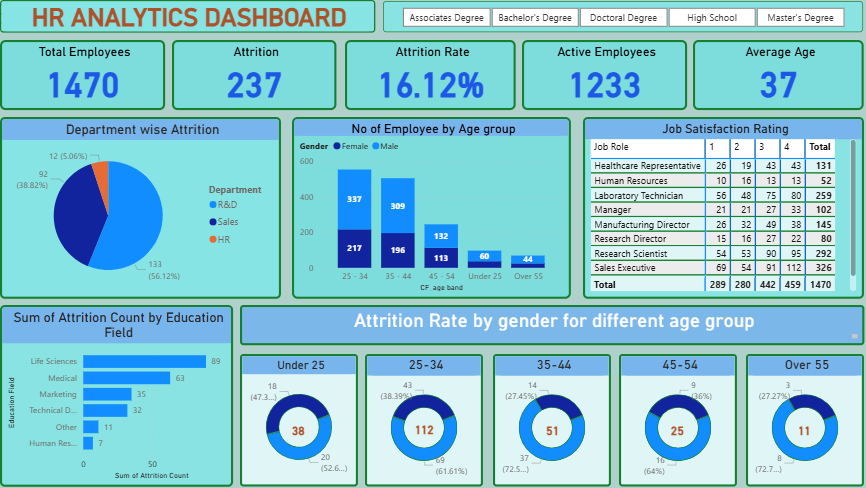

Layout of this report page (visuals, bound fields, positions):
{"tool":"powerbi","page":{"name":"Page 1","canvas":[1280,720],"ordinal":0},"visuals":[{"type":"card","title":"Total Employees","fields":{"Values":["Sum(HR data.Employee Count)"]},"box":[19.5,57.3,237.9,101.3],"z":0},{"type":"card","title":"Attrition","fields":{"Values":["Sum(HR data.Attrition (Left out))"]},"box":[268.4,57.3,236.7,101.3],"z":1000},{"type":"card","title":"Active Employees","fields":{"Values":["HR data.Active Employees"]},"box":[772.4,57.3,237.9,101.3],"z":2000},{"type":"card","title":"Attrition Rate","fields":{"Values":["HR data.Attrition rate"]},"box":[517.4,57.3,246.5,101.3],"z":3000},{"type":"card","title":"Average Age","fields":{"Values":["Avg(HR data.Age)"]},"box":[1018.9,57.3,246.5,101.3],"z":4000},{"type":"pieChart","title":" Department wise Attrition","fields":{"Category":["HR data.Department"],"Y":["Sum(HR data.Attrition Count)"]},"box":[19.7,168.3,404.9,262.4],"z":5000},{"type":"columnChart","title":"No of Employee by Age group","fields":{"Category":["HR data.CF_age band"],"Y":["Sum(HR data.Employee Count)"],"Series":["HR data.Gender"]},"box":[441.3,168.3,401.9,262.4],"z":6000},{"type":"actionButton","box":[0,0,100,40],"z":7000},{"type":"pivotTable","title":"Job Satisfaction Rating","fields":{"Rows":["HR data.Job Role"],"Columns":["HR data.Job Satisfaction"],"Values":["Sum(HR data.Employee Count)"]},"box":[859.9,168.3,404.9,262.4],"z":8000},{"type":"barChart","fields":{"Category":["HR data.Education Field"],"Y":["Sum(HR data.Attrition Count)"]},"box":[19.8,439.4,335.9,262.2],"z":9000},{"type":"donutChart","title":"Under 25","fields":{"Category":["HR data.Gender"],"Y":["Sum(HR data.Attrition Count)"],"Series":["HR data.CF_age band"]},"box":[365.7,510.3,170,191.4],"z":10000},{"type":"textbox","title":"Attrition Rate by gender for different age group","box":[365.7,439.4,900.1,58.1],"z":11000},{"type":"donutChart","title":" 25-34","fields":{"Category":["HR data.Gender"],"Y":["Sum(HR data.Attrition Count)"],"Series":["HR data.CF_age band"]},"box":[545.7,510.3,170.1,191.4],"z":12000},{"type":"donutChart","title":"35-44","fields":{"Category":["HR data.Gender"],"Y":["Sum(HR data.Attrition Count)"],"Series":["HR data.CF_age band"]},"box":[731.4,510.3,170.1,191.4],"z":13000},{"type":"donutChart","title":"45-54","fields":{"Category":["HR data.Gender"],"Y":["Sum(HR data.Attrition Count)"],"Series":["HR data.CF_age band"]},"box":[912.9,510.3,170.1,191.4],"z":14000},{"type":"donutChart","title":"Over 55","fields":{"Category":["HR data.Gender"],"Y":["Sum(HR data.Attrition Count)"],"Series":["HR data.CF_age band"]},"box":[1095.7,510.3,170.1,191.4],"z":15000},{"type":"textbox","title":"HR ANALYTICS DASHBOARD","box":[19.8,0,541.5,46.8],"z":16000},{"type":"slicer","fields":{"Values":["HR data.Education"]},"box":[572.7,1.4,691.7,45.4],"z":17000},{"type":"card","fields":{"Values":["Sum(HR data.Attrition Count)"]},"box":[435.2,606.7,29.8,28.3],"z":18000},{"type":"card","fields":{"Values":["Sum(HR data.Attrition Count)"]},"box":[610.5,605.2,40.7,28.9],"z":19000},{"type":"card","fields":{"Values":["Sum(HR data.Attrition Count)"]},"box":[800.9,606.7,29.8,28.3],"z":20000},{"type":"card","fields":{"Values":["Sum(HR data.Attrition Count)"]},"box":[980.9,606.7,29.8,28.3],"z":21000},{"type":"card","fields":{"Values":["Sum(HR data.Attrition Count)"]},"box":[1165.2,606.7,29.8,28.3],"z":22000}]}

Visuals, with their boxes in screenshot pixels (x1, y1, x2, y2), scaled from the page's 1280x720 canvas onto the 866x488 screenshot:
"Total Employees" card: 13,39,174,107
"Attrition" card: 182,39,342,107
"Active Employees" card: 523,39,684,107
"Attrition Rate" card: 350,39,517,107
"Average Age" card: 689,39,856,107
" Department wise Attrition" pieChart: 13,114,287,292
"No of Employee by Age group" columnChart: 299,114,570,292
actionButton: 0,0,68,27
"Job Satisfaction Rating" pivotTable: 582,114,856,292
barChart - HR data.Education Field x Sum(HR data.Attrition Count): 13,298,241,476
"Under 25" donutChart: 247,346,362,476
"Attrition Rate by gender for different age group" textbox: 247,298,856,337
" 25-34" donutChart: 369,346,484,476
"35-44" donutChart: 495,346,610,476
"45-54" donutChart: 618,346,733,476
"Over 55" donutChart: 741,346,856,476
"HR ANALYTICS DASHBOARD" textbox: 13,0,380,32
slicer - HR data.Education: 387,1,855,32
card - Sum(HR data.Attrition Count): 294,411,315,430
card - Sum(HR data.Attrition Count): 413,410,441,430
card - Sum(HR data.Attrition Count): 542,411,562,430
card - Sum(HR data.Attrition Count): 664,411,684,430
card - Sum(HR data.Attrition Count): 788,411,808,430
